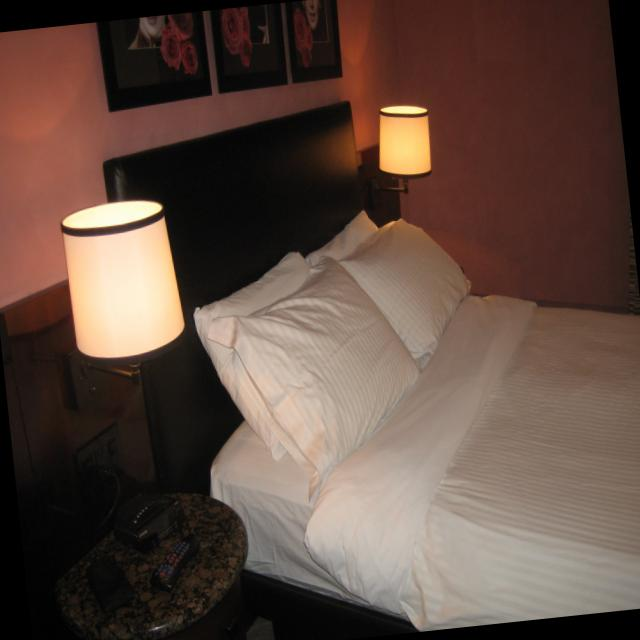bed -occluded-: (102, 97, 640, 638)
control remote: (150, 537, 195, 591)
lamp crop: (59, 198, 187, 380), (378, 105, 431, 191)
night table occluded: (53, 487, 249, 640)
picture frame: (96, 11, 211, 111), (210, 3, 288, 94), (285, 0, 342, 81)
pillow: (191, 249, 311, 459), (302, 210, 377, 269)
pillow occluded: (207, 257, 420, 497), (339, 218, 471, 368)
telephone booth: (114, 491, 183, 551)
